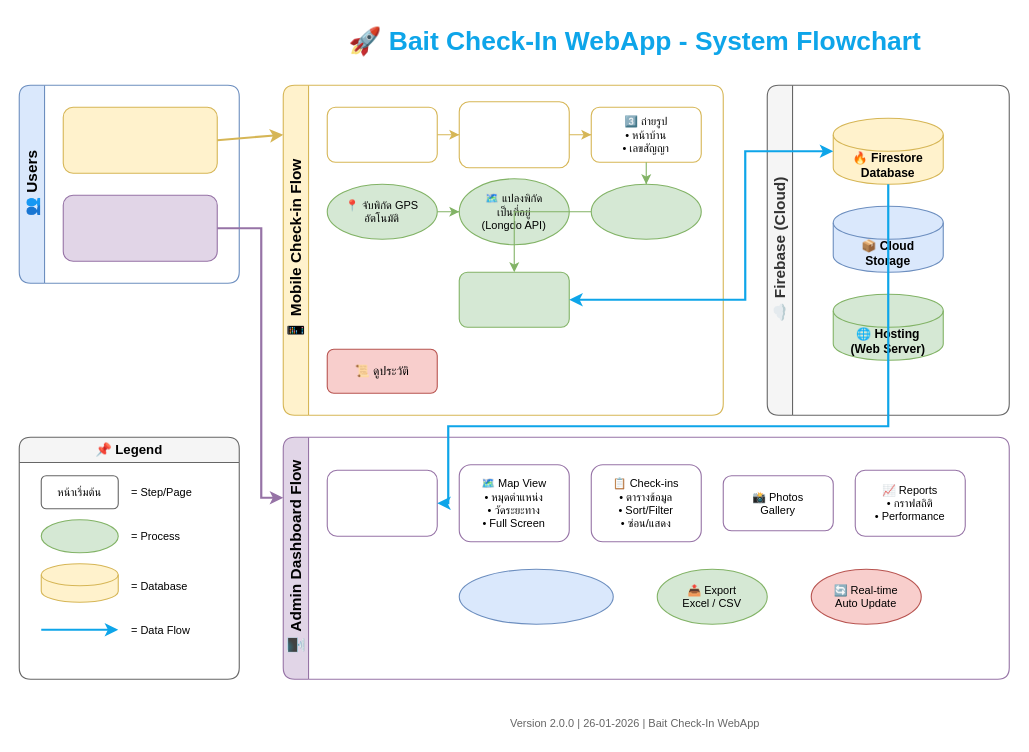
The diagram is 1029 pixels wide and 752 high, and some of its shapes have lost their labels. The shapes that lost their labels are listed below. From the top down, each one's centre as x and y in pixels, then its label:
point (139, 139): 📱 ทีมภาคสนาม (Mobile)
point (381, 134): 1️⃣ เลือกทีม (A-O, Z)
point (513, 134): 2️⃣ กรอกข้อมูล • ชื่อลูกค้า • เลขสัญญา • เลือกสาขา
point (139, 227): 🖥️ Admin (Desktop)
point (645, 211): 📸 บีบอัดรูป 120-450 KB
point (513, 299): ✅ กดบันทึก Check-in
point (381, 502): 📊 Dashboard • สถิติ • การ์ดสรุป
point (79, 536): ประมวลผล
point (79, 582): ฐานข้อมูล
point (535, 596): 🔍 Filters ทีม | เขต | สาขา | วันที่
